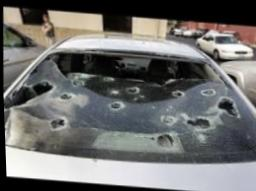Windshield: (3, 48, 256, 162)
